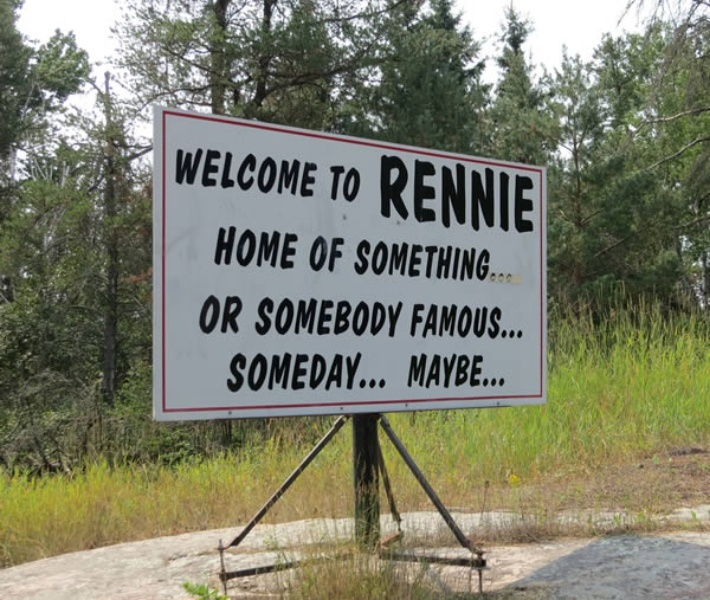text: (385, 152, 400, 236), (401, 152, 416, 236), (417, 152, 432, 236), (433, 152, 448, 236), (449, 152, 464, 236), (465, 152, 480, 236), (481, 152, 496, 236), (497, 152, 512, 236), (513, 152, 528, 236), (193, 144, 208, 199), (209, 144, 224, 199), (225, 144, 240, 199), (241, 144, 256, 199), (257, 144, 272, 199), (273, 144, 288, 199), (289, 144, 304, 199), (178, 144, 192, 199), (305, 144, 319, 199), (225, 224, 240, 272), (241, 224, 256, 272), (257, 224, 272, 272), (273, 224, 288, 272), (369, 237, 384, 285), (385, 237, 400, 285), (401, 237, 416, 285), (417, 237, 432, 285), (433, 237, 448, 285), (449, 237, 464, 285), (465, 237, 480, 285), (481, 237, 496, 285), (497, 237, 512, 285), (257, 296, 272, 338), (273, 296, 288, 338), (289, 296, 304, 338), (305, 296, 320, 338), (321, 296, 336, 338), (337, 296, 352, 338), (353, 296, 368, 338), (369, 296, 384, 338), (385, 296, 400, 338), (241, 351, 256, 392), (257, 351, 272, 392), (273, 351, 288, 392), (289, 351, 304, 392), (305, 351, 320, 392), (321, 351, 336, 392), (337, 351, 352, 392), (353, 351, 368, 392), (369, 351, 384, 392), (209, 294, 224, 334), (225, 294, 240, 334), (337, 164, 352, 203), (356, 237, 368, 285), (321, 235, 336, 273), (417, 352, 432, 390), (433, 352, 448, 390), (449, 352, 464, 390), (465, 352, 480, 390), (481, 352, 496, 390), (417, 302, 432, 339), (433, 302, 448, 339), (449, 302, 464, 339), (465, 302, 480, 339), (481, 302, 496, 339), (497, 302, 512, 339), (289, 224, 300, 272), (379, 152, 384, 236), (529, 152, 534, 236), (513, 302, 524, 339), (198, 294, 208, 334), (337, 235, 346, 273), (232, 351, 240, 392), (328, 164, 336, 203), (353, 164, 361, 203), (497, 352, 505, 390), (218, 224, 224, 272), (313, 235, 320, 273), (385, 351, 391, 392), (411, 352, 416, 390), (401, 296, 404, 338), (241, 294, 244, 334), (413, 302, 416, 339), (513, 237, 514, 285)
